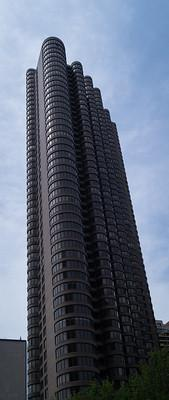building: (22, 34, 169, 400)
